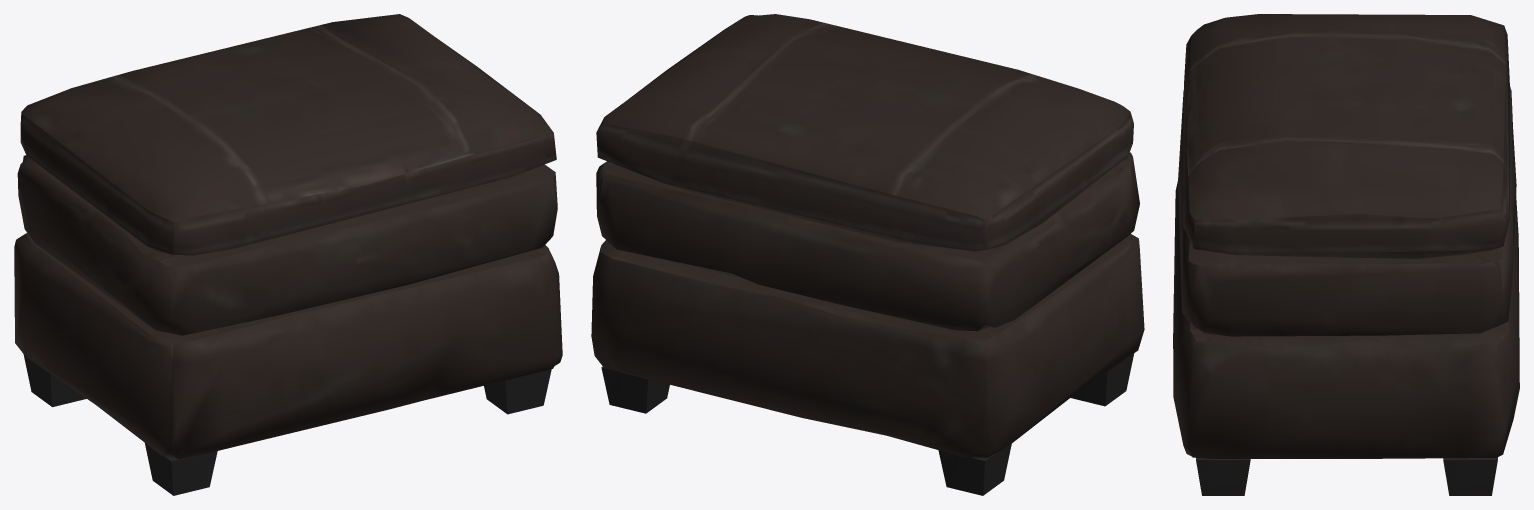
File: ottoman.glb
3 views of the same model, side by side, from view 1: azimuth 30°, elevation 25°; view 2: azimuth 150°, elevation 25°; view 3: azimuth 270°, elevation 25° (orthographic). The views are drawn at different scales.
Visible parts, largest first — view 1: Ottoman_01; view 2: Ottoman_01; view 3: Ottoman_01.
Part boxes in pixels (left/top/right/bottom): Ottoman_01: left=14, top=14, right=562, bottom=495; Ottoman_01: left=591, top=14, right=1144, bottom=495; Ottoman_01: left=1173, top=14, right=1519, bottom=495.
Bounding box in the file's own units: 0.882 × 0.6234 × 0.6171.
Materials: 1 (1 with a texture image).
